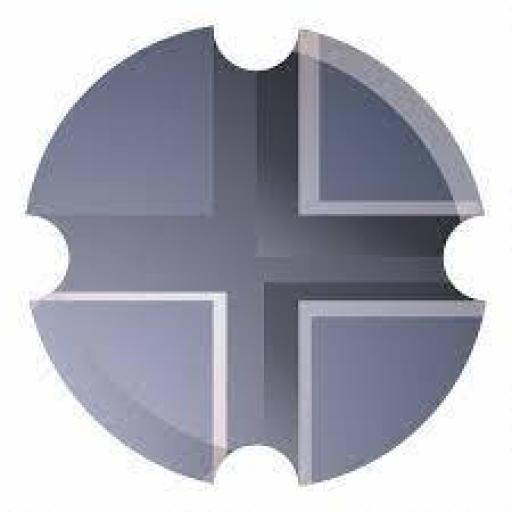Phillips: (24, 24, 490, 483)
